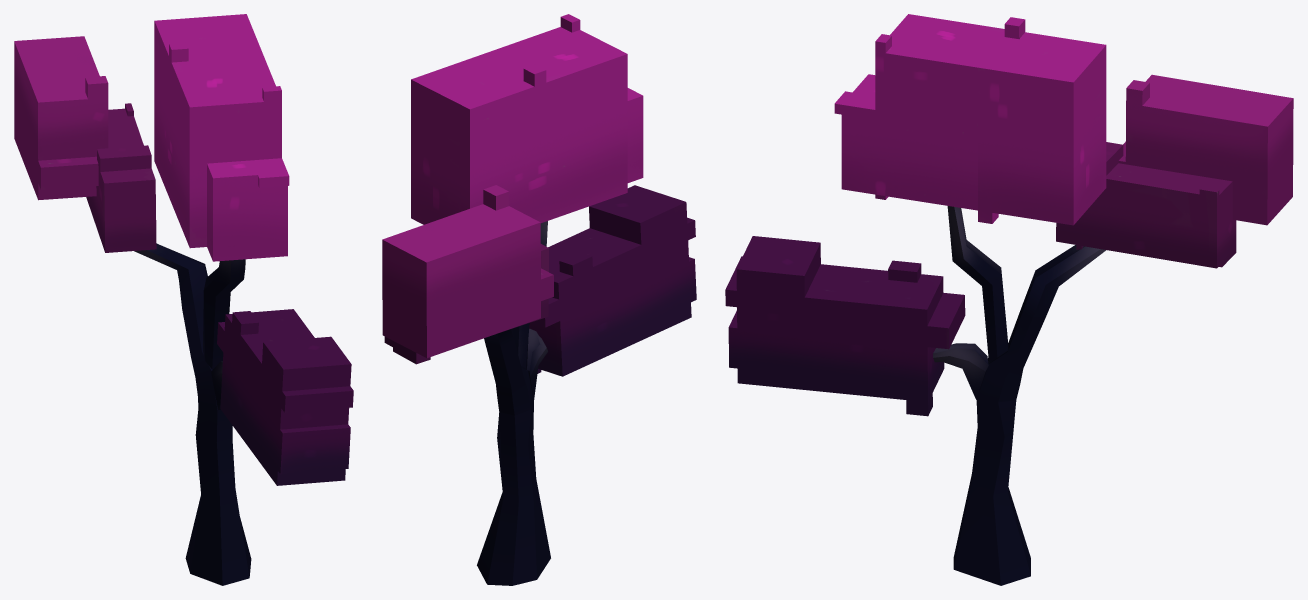
The model's file is SakuraA.fbx.
3 renders of one model, left to right at view 1: azimuth 30°, elevation 25°; view 2: azimuth 150°, elevation 25°; view 3: azimuth 270°, elevation 25°, orthographic. The views are drawn at different scales.
Visible parts, largest first — view 1: Tronco_arvore_5; view 2: Tronco_arvore_5; view 3: Tronco_arvore_5.
Part boxes in pixels (x1,y1,x2,y2): Tronco_arvore_5: (14,14,353,585); Tronco_arvore_5: (382,14,696,585); Tronco_arvore_5: (725,14,1293,585).
Size of the model in its own units: 2.92 by 8.37 by 8.06.
